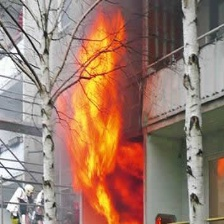fire: (57, 8, 145, 224)
